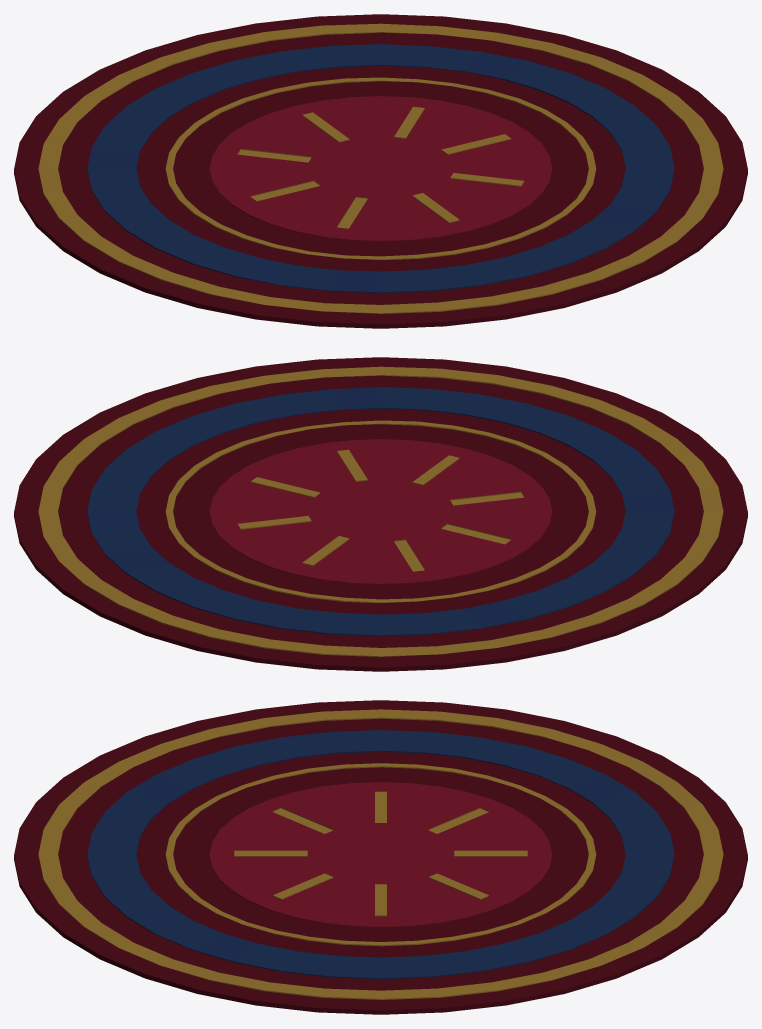
The model's file is rug_round.glb.
The picture shows the model from 3 angles, top to bottom: view 1: azimuth 30°, elevation 25°; view 2: azimuth 150°, elevation 25°; view 3: azimuth 270°, elevation 25°; orthographic projection.
Parts seen in each view (by area): view 1: rug_round; view 2: rug_round; view 3: rug_round.
Boxes of the visible parts, left/top/right/bottom form: rug_round: left=14, top=14, right=747, bottom=328; rug_round: left=14, top=357, right=747, bottom=671; rug_round: left=14, top=700, right=747, bottom=1014.
Size of the model in its own units: 3 by 0.029 by 3.
